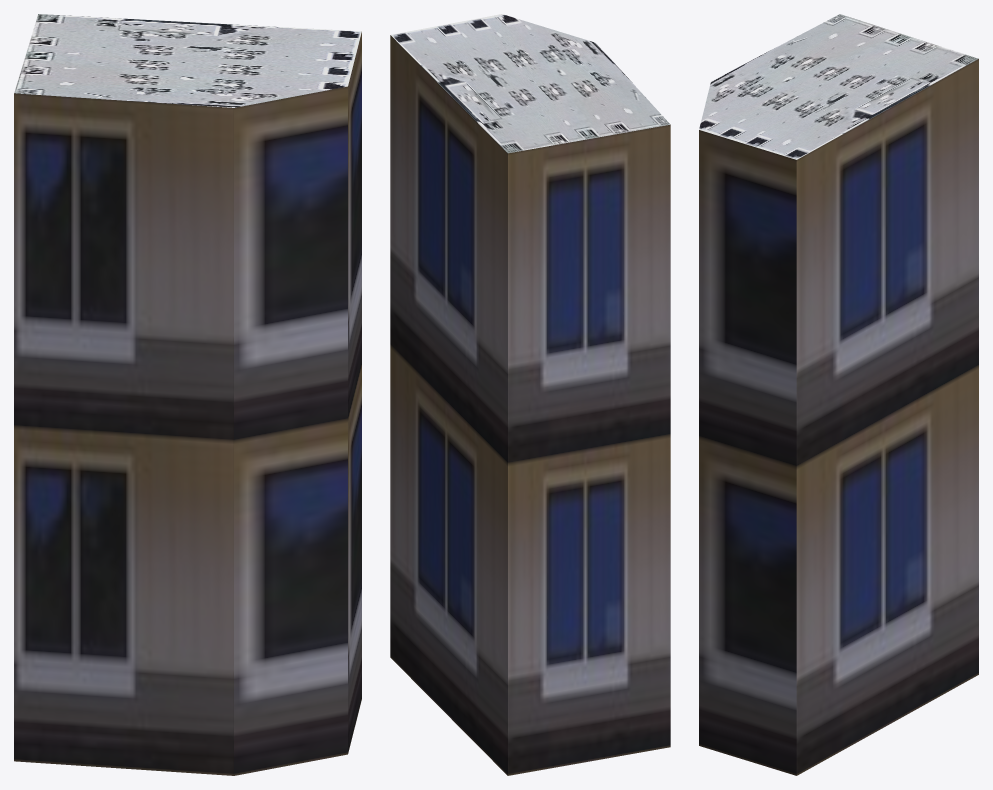
The model's file is ResTex__3711.fbx.
3 renders of one model, left to right at view 1: azimuth 30°, elevation 25°; view 2: azimuth 150°, elevation 25°; view 3: azimuth 270°, elevation 25°, orthographic. The views are drawn at different scales.
Visible parts, largest first — view 1: CityEngineMaterial_5_m, CityEngineMaterial_m; view 2: CityEngineMaterial_5_m, CityEngineMaterial_m; view 3: CityEngineMaterial_5_m, CityEngineMaterial_m.
Boxes of the visible parts, box(x1,y1,x2,y2) form: CityEngineMaterial_5_m: box(14, 32, 361, 775); CityEngineMaterial_m: box(14, 14, 361, 107); CityEngineMaterial_5_m: box(390, 35, 670, 775); CityEngineMaterial_m: box(391, 14, 670, 153); CityEngineMaterial_5_m: box(699, 59, 978, 775); CityEngineMaterial_m: box(699, 14, 978, 159).
Size of the model in its own units: 3.05 by 6 by 2.47.
2 materials, 2 textured.
